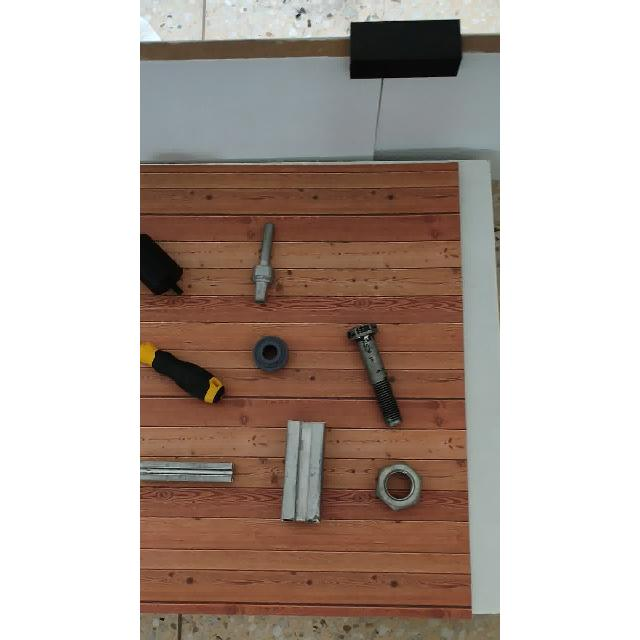Axis2: (248, 220, 282, 306)
Bearing2: (248, 334, 296, 378)
F20_20_G: (140, 457, 236, 489)
M20_100: (344, 320, 406, 430)
M30: (373, 459, 423, 511)
Motor2: (140, 228, 193, 306)
S40_40_G: (281, 417, 327, 527)
Screwdriver: (140, 338, 234, 408)
